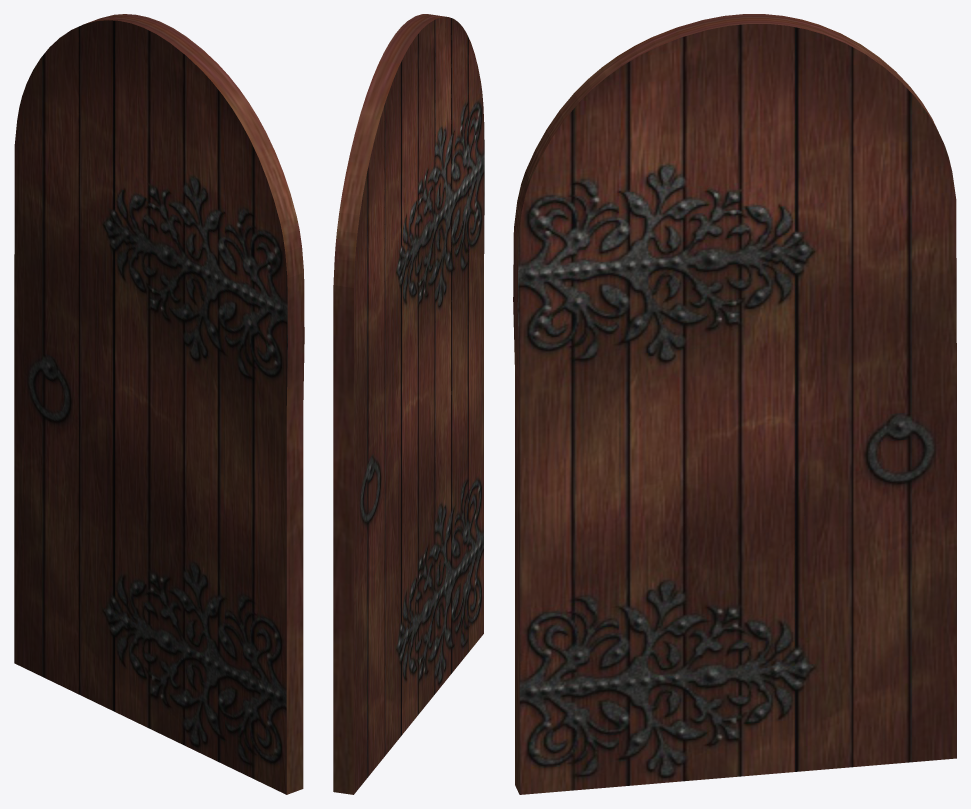
File: door 25.obj
The picture shows the model from 3 angles, left to right: view 1: azimuth 30°, elevation 25°; view 2: azimuth 150°, elevation 25°; view 3: azimuth 270°, elevation 25°; orthographic projection. The views are drawn at different scales.
Parts seen in each view (by area): view 1: door_10:Mesh; view 2: door_10:Mesh; view 3: door_10:Mesh.
Boxes of the visible parts, box(x1,y1,x2,y2) form: door_10:Mesh: box(14, 14, 304, 794); door_10:Mesh: box(333, 14, 484, 794); door_10:Mesh: box(513, 14, 956, 794).
Bounding box in the file's own units: 15.9 × 120 × 64.09.
Materials: 1 (1 with a texture image).
